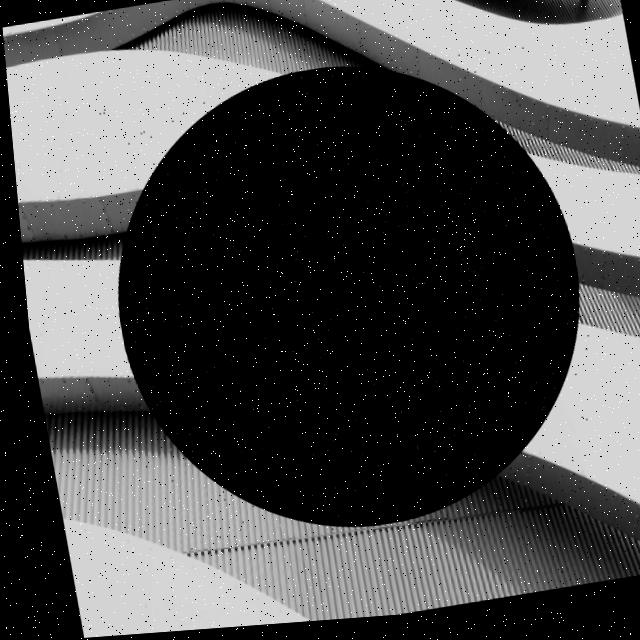CIRCLE: (113, 72, 572, 531)
